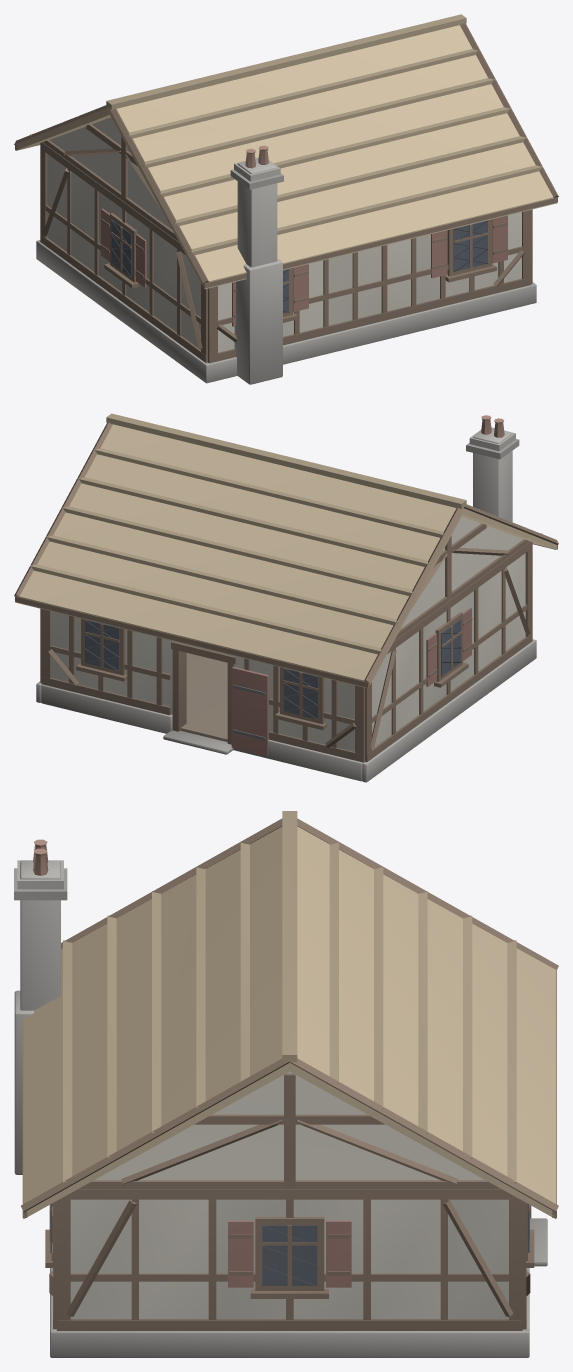
File: open_house_amber.gltf
3 renders of one model, top to bottom at view 1: azimuth 30°, elevation 25°; view 2: azimuth 150°, elevation 25°; view 3: azimuth 270°, elevation 25°, orthographic. The views are drawn at different scales.
Parts seen in each view (by area): view 1: Body; view 2: Body; view 3: Body.
Part boxes in pixels (x1=…): Body: x1=14, y1=14, x2=558, y2=384; Body: x1=14, y1=413, x2=558, y2=782; Body: x1=14, y1=811, x2=558, y2=1357.
Bounding box in the file's own units: 9.97 × 6.04 × 9.4.
